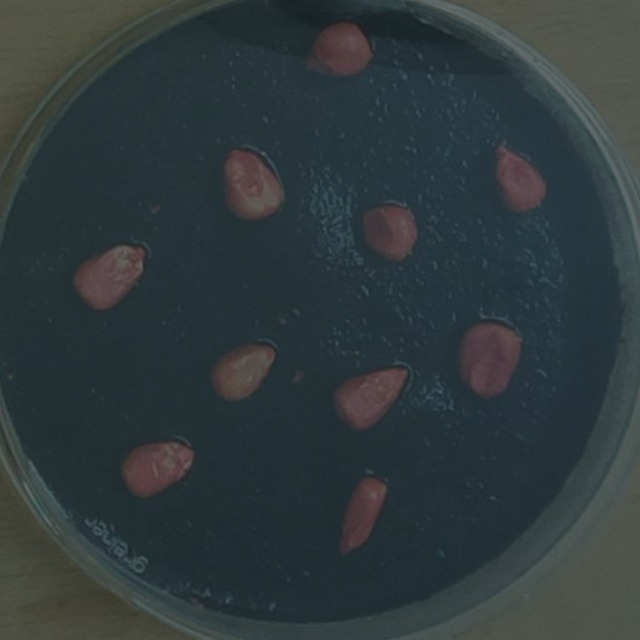Zea mays: (447, 312, 528, 409), (324, 357, 417, 441), (65, 237, 155, 320), (327, 467, 400, 569), (114, 431, 203, 508), (201, 335, 288, 411), (216, 141, 290, 230), (294, 14, 381, 88), (486, 135, 552, 222), (352, 192, 423, 271)
